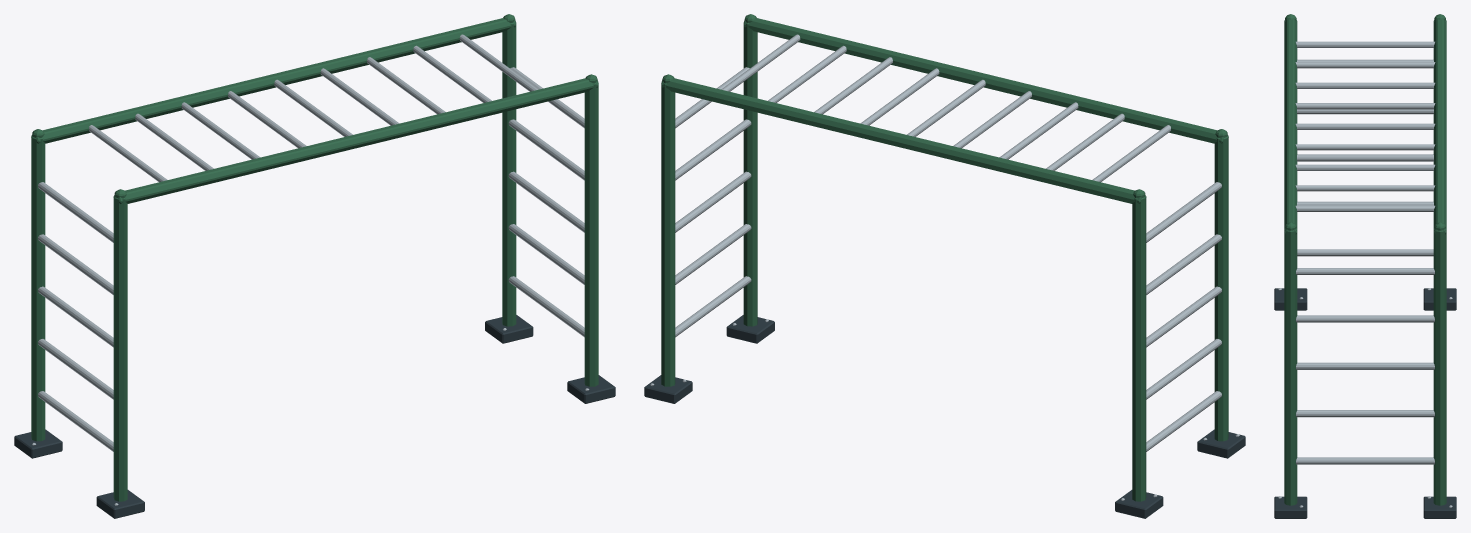
File: b09_monkey_bars.glb
The picture shows the model from 3 angles, left to right: view 1: azimuth 30°, elevation 25°; view 2: azimuth 150°, elevation 25°; view 3: azimuth 270°, elevation 25°; orthographic projection. The views are drawn at different scales.
Parts seen in each view (by area): view 1: b09_monkey_bars; view 2: b09_monkey_bars; view 3: b09_monkey_bars.
Boxes of the visible parts, bbox=[...] form: b09_monkey_bars: bbox=[14, 14, 615, 518]; b09_monkey_bars: bbox=[644, 14, 1245, 518]; b09_monkey_bars: bbox=[1274, 14, 1456, 518].
Bounding box in the file's own units: 3.52 × 2.14 × 1.22.
